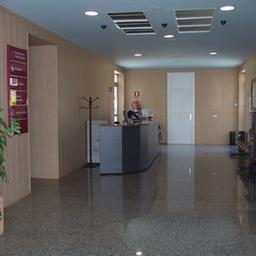Bote de Basura: (236, 128, 246, 147), (229, 129, 238, 147)
Otro Obstaculo: (80, 93, 101, 170)
Puerta: (167, 72, 194, 144)
